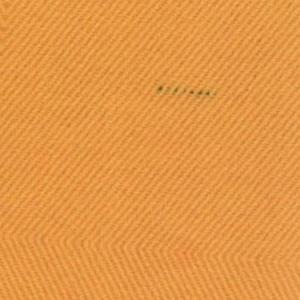stain: (157, 79, 214, 103)
